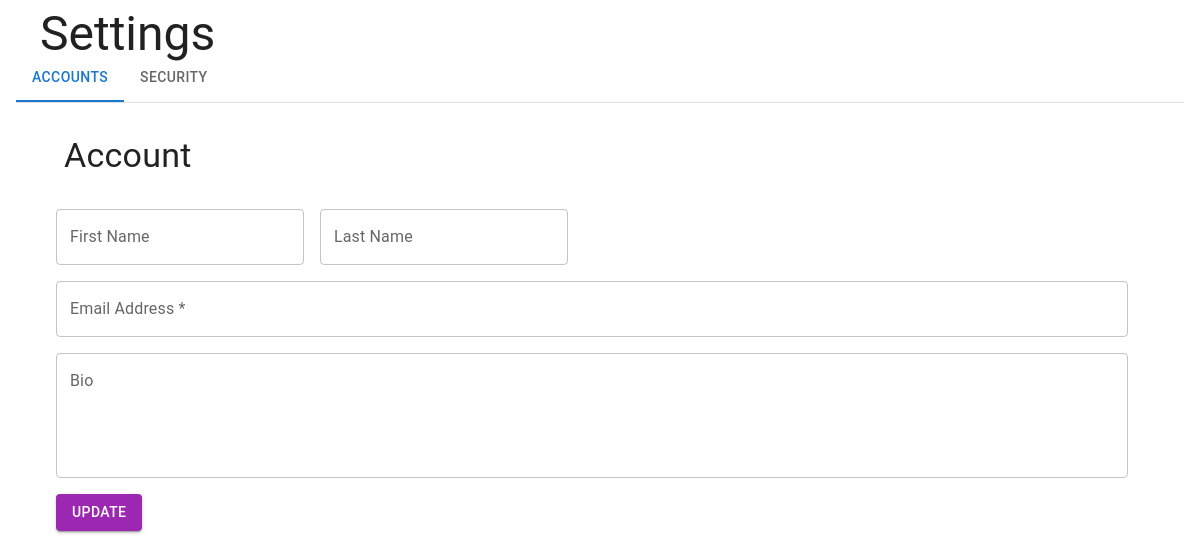
Scenario: UpdateProfile switches between tabs correctly
Expected: the heading "Account" is shown, [64, 135, 192, 175]
Expected: the text "Enter your current password" is not shown
Click the tab "Security". click: (174, 78)
box: [124, 54, 224, 102]
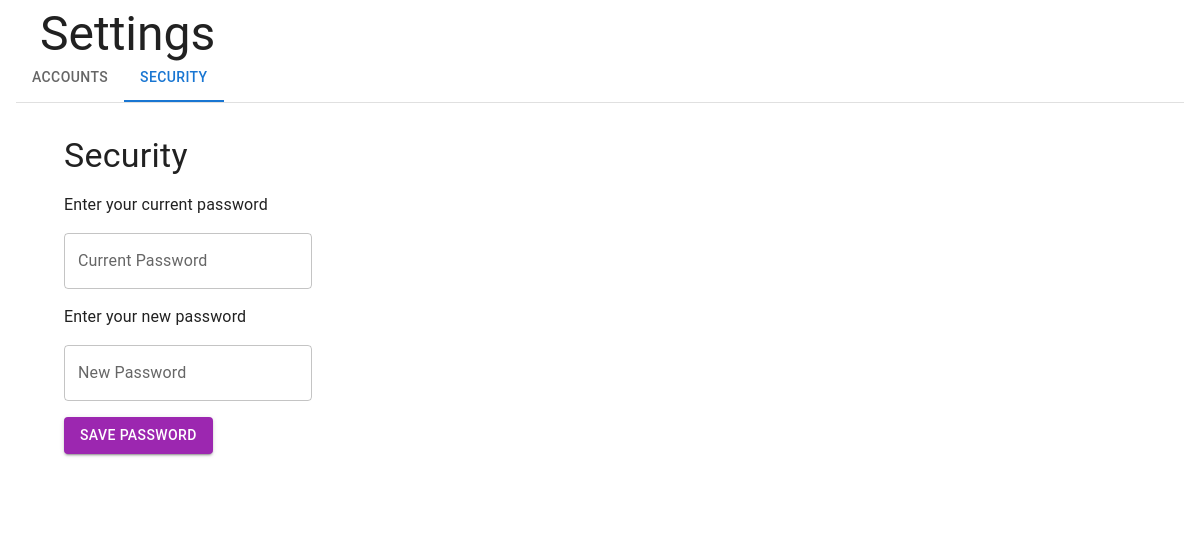
Expected: the text "Enter your current password" is shown, [64, 195, 268, 214]
